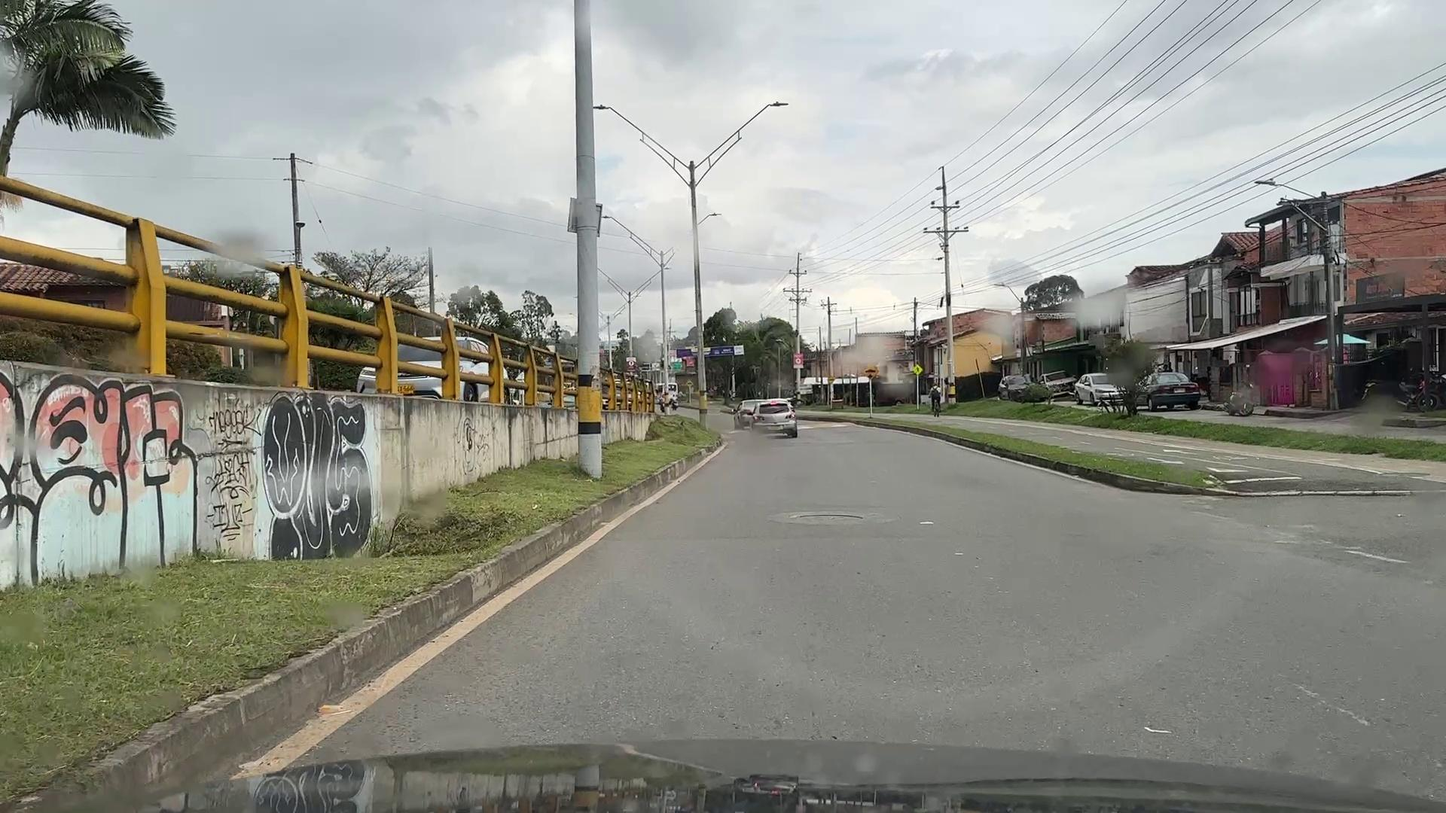registro: (799, 515, 863, 521)
